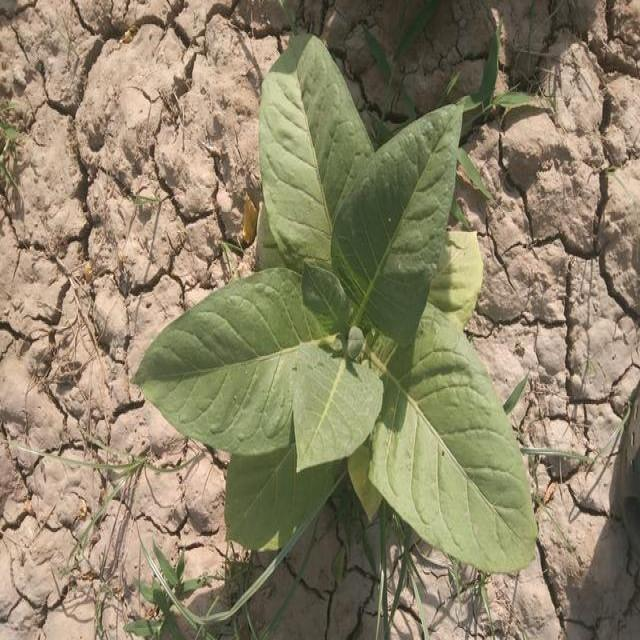crop: (137, 32, 536, 572)
